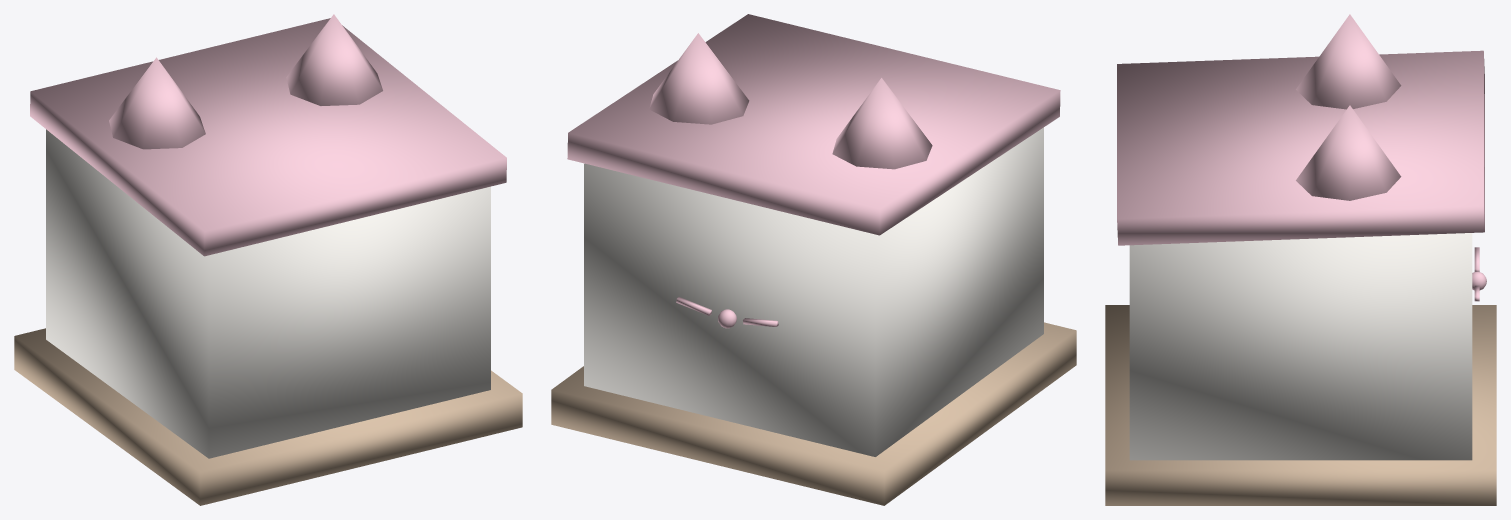
Rendered from cat_cafe_lv1.glb.
3 views of the same model, side by side, from view 1: azimuth 30°, elevation 25°; view 2: azimuth 150°, elevation 25°; view 3: azimuth 270°, elevation 25° (orthographic). The views are drawn at different scales.
Visible parts, largest first — view 1: body, roof, floor, ear_l, ear_r; view 2: body, roof, floor, ear_r, ear_l; view 3: body, roof, floor, ear_r, ear_l.
Boxes of the visible parts, left/top/right/bottom form: body: left=46, top=129, right=490, bottom=458; roof: left=30, top=18, right=506, bottom=256; floor: left=14, top=328, right=522, bottom=505; ear_l: left=109, top=57, right=205, bottom=149; ear_r: left=286, top=14, right=382, bottom=105; body: left=584, top=127, right=1043, bottom=456; roof: left=567, top=14, right=1060, bottom=235; floor: left=551, top=322, right=1076, bottom=505; ear_r: left=649, top=33, right=749, bottom=124; ear_l: left=832, top=78, right=932, bottom=169; body: left=1129, top=233, right=1472, bottom=460; roof: left=1117, top=50, right=1484, bottom=245; floor: left=1105, top=305, right=1496, bottom=505; ear_r: left=1296, top=105, right=1401, bottom=200; ear_l: left=1296, top=14, right=1401, bottom=109.
Bounding box in the file's own units: 0.8 × 0.82 × 0.8.
